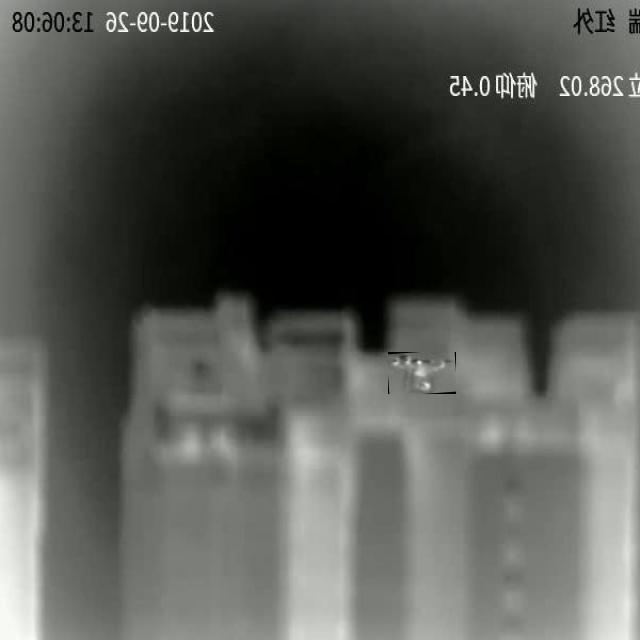drone: (388, 354, 454, 393)
